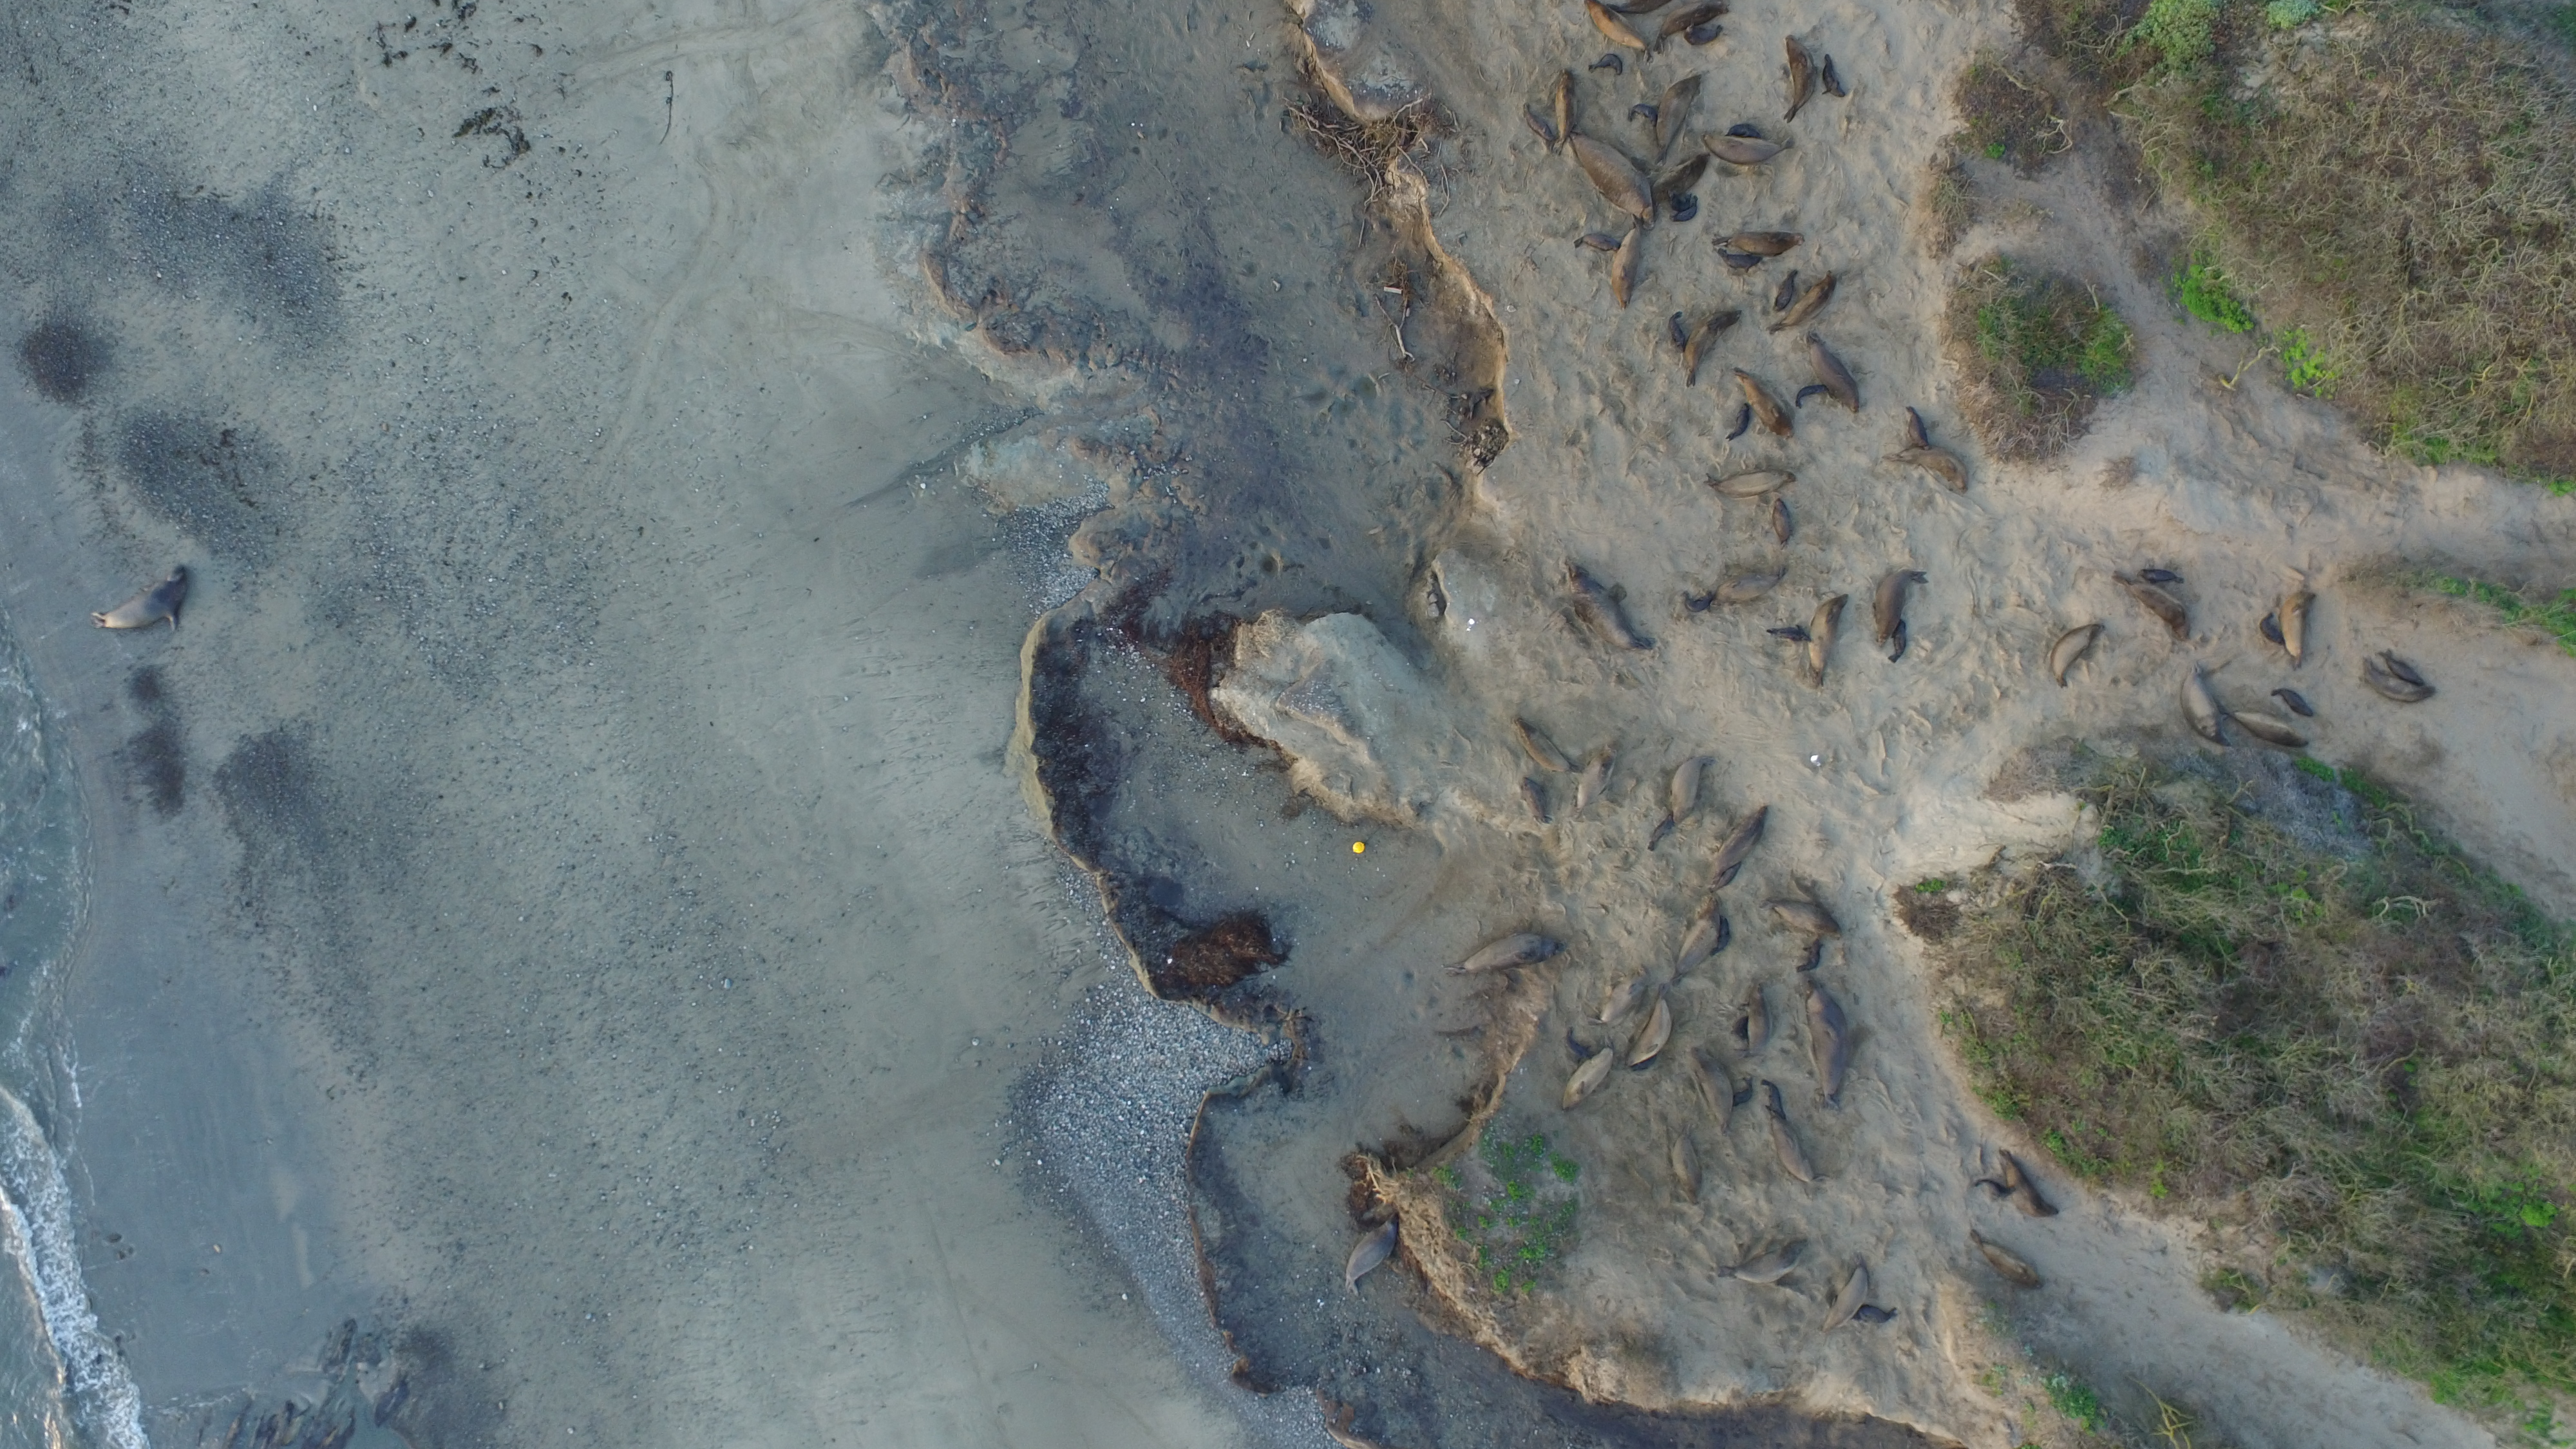adult male: (1552, 559, 1660, 658), (1560, 131, 1663, 232), (1798, 978, 1856, 1115), (1440, 931, 1569, 982)
male juvenile / female juvenile / adult female: (81, 559, 205, 642), (1706, 800, 1776, 893), (2217, 701, 2327, 759), (1334, 1207, 1401, 1299), (1674, 308, 1750, 387), (1801, 329, 1867, 421), (1994, 1152, 2068, 1231), (1962, 1228, 2049, 1295), (2173, 656, 2231, 755), (1868, 566, 1932, 656), (1716, 1228, 1812, 1288), (1762, 1115, 1831, 1194), (2350, 655, 2443, 713), (1766, 267, 1842, 338), (2042, 623, 2112, 695), (1507, 715, 1585, 780), (1621, 996, 1684, 1074), (1803, 593, 1852, 692), (1882, 446, 1974, 499), (1656, 73, 1707, 166), (1815, 1261, 1879, 1336), (1555, 1039, 1619, 1113), (1575, 0, 1660, 55), (1776, 35, 1828, 126), (1645, 149, 1714, 212), (1670, 902, 1721, 985), (1658, 748, 1709, 830), (1591, 964, 1654, 1030), (1707, 462, 1803, 502), (1737, 980, 1782, 1067), (1766, 899, 1849, 945), (1573, 741, 1624, 812), (1608, 221, 1645, 317), (1700, 133, 1798, 168), (1704, 230, 1813, 260), (1706, 571, 1792, 605), (1550, 64, 1582, 150), (1667, 1129, 1702, 1207), (1603, 0, 1683, 21)
pup: (2376, 651, 2434, 694), (1518, 106, 1566, 156), (1514, 777, 1555, 830), (1815, 53, 1852, 104), (2268, 685, 2319, 722), (1755, 1076, 1792, 1127), (1555, 1028, 1603, 1067), (1900, 405, 1937, 455), (1766, 497, 1801, 548), (1707, 862, 1750, 901), (1709, 913, 1739, 968), (1844, 1302, 1904, 1329), (1644, 809, 1679, 853), (2256, 612, 2291, 655), (1884, 617, 1914, 667), (1677, 586, 1721, 617), (1663, 310, 1693, 356), (1721, 1072, 1757, 1111), (1974, 1177, 2022, 1205), (1713, 249, 1771, 272), (1573, 232, 1626, 257), (1771, 265, 1798, 315), (1725, 403, 1759, 442), (2132, 564, 2189, 587), (1587, 51, 1629, 81), (1663, 195, 1706, 225), (1681, 21, 1729, 48), (1790, 379, 1835, 407), (1764, 625, 1817, 648), (1621, 101, 1663, 127), (1721, 120, 1767, 143), (1801, 938, 1829, 975)
